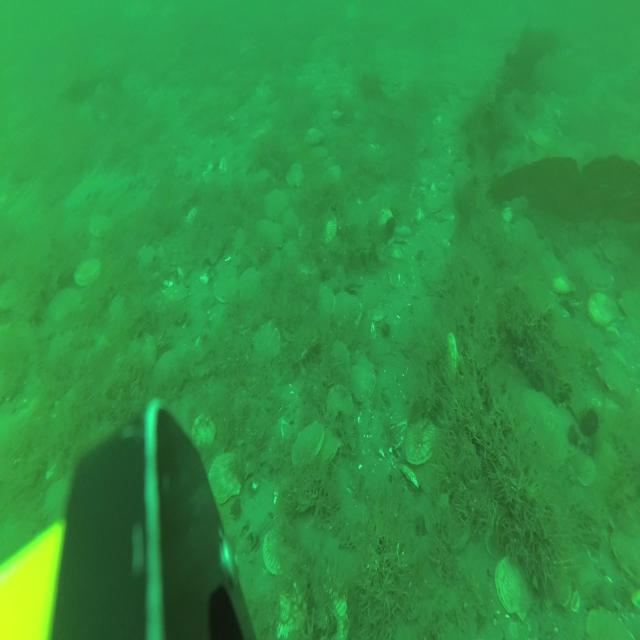scallop: (518, 388, 577, 471), (497, 554, 535, 622), (405, 418, 438, 470), (212, 456, 240, 514), (596, 354, 632, 398), (264, 527, 292, 577), (253, 320, 283, 366), (333, 294, 360, 342), (587, 286, 617, 329), (351, 355, 377, 404), (293, 426, 321, 470), (327, 383, 354, 426), (328, 339, 352, 385), (311, 432, 336, 475), (312, 284, 337, 325), (212, 270, 237, 306), (52, 288, 78, 322), (192, 411, 214, 451), (166, 278, 189, 313), (316, 208, 338, 244), (239, 264, 261, 298), (266, 187, 288, 220), (257, 217, 280, 248), (76, 260, 100, 289), (423, 187, 446, 217), (89, 214, 111, 242), (286, 159, 302, 189)
